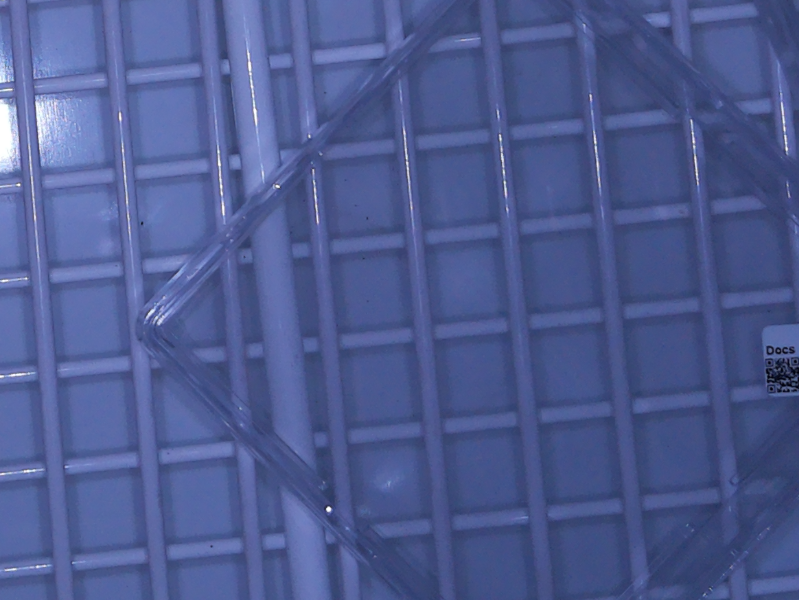plate: (132, 1, 799, 600)
